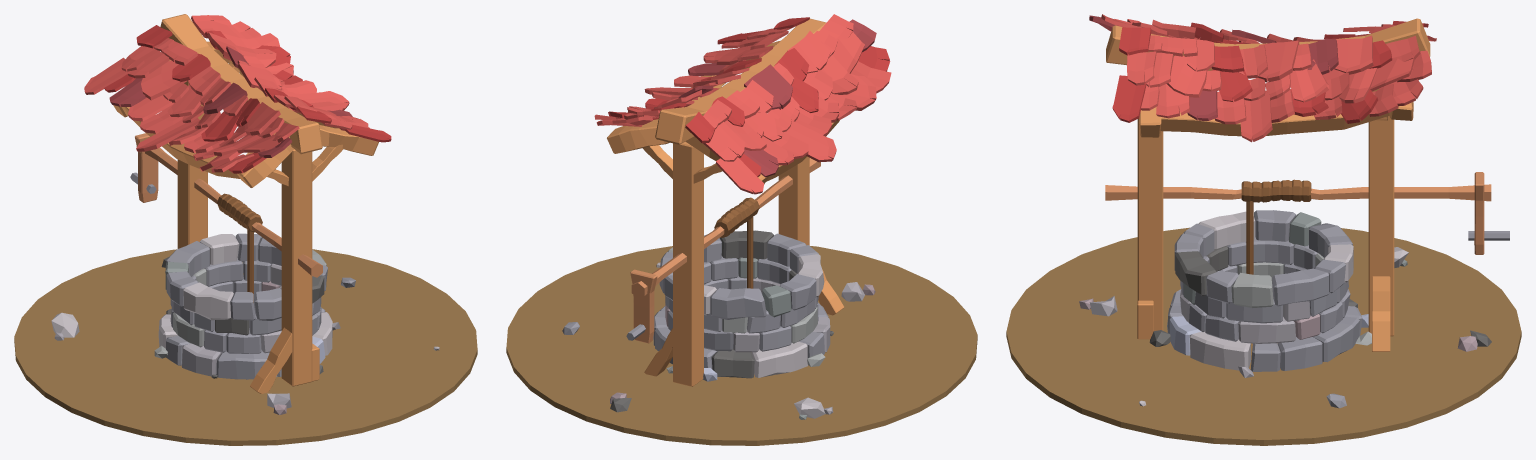
Rendered from LowPolyWell.fbx.
3 renders of one model, left to right at view 1: azimuth 30°, elevation 25°; view 2: azimuth 150°, elevation 25°; view 3: azimuth 270°, elevation 25°, orthographic. The views are drawn at different scales.
Visible parts, largest first — view 1: Cylinder.004, Plane.001, Plane.019, Cube.004, Cube.006, Cube.009, Cylinder, Cube.032, Cube.018, Cube.065, Cube.013, Cube.022 (+19 smaller); view 2: Cylinder.004, Plane.001, Cube.009, Plane.019, Cube.006, Cube.004, Cube.029, Cylinder, Cube.062, Cube.022, Cube.016, Cube.023 (+19 smaller); view 3: Cylinder.004, Plane.019, Cube.004, Cube.009, Cylinder, Plane.001, Cube.015, Cube.006, Cube.056, Cube.026, Cylinder.002, Cube.020 (+27 smaller).
Boxes of the visible parts, left/top/right/bottom form: Cylinder.004: left=14, top=249, right=477, bottom=445; Plane.001: left=84, top=25, right=299, bottom=173; Plane.019: left=191, top=15, right=391, bottom=142; Cube.004: left=281, top=149, right=312, bottom=386; Cube.006: left=160, top=14, right=322, bottom=154; Cube.009: left=177, top=80, right=207, bottom=248; Cylinder: left=145, top=147, right=322, bottom=277; Cube.032: left=183, top=282, right=233, bottom=320; Cube.018: left=250, top=327, right=292, bottom=393; Cube.065: left=216, top=350, right=277, bottom=379; Cube.013: left=319, top=125, right=378, bottom=155; Cube.022: left=135, top=133, right=158, bottom=202; Cylinder.004: left=506, top=246, right=977, bottom=445; Plane.001: left=685, top=14, right=891, bottom=194; Cube.009: left=673, top=141, right=703, bottom=386; Plane.019: left=594, top=17, right=809, bottom=126; Cube.006: left=655, top=18, right=826, bottom=144; Cube.004: left=778, top=156, right=809, bottom=245; Cube.029: left=710, top=288, right=766, bottom=319; Cylinder: left=631, top=158, right=820, bottom=298; Cube.062: left=752, top=341, right=807, bottom=377; Cube.022: left=630, top=269, right=657, bottom=343; Cube.016: left=607, top=119, right=669, bottom=153; Cube.023: left=719, top=230, right=773, bottom=259; Cylinder.004: left=1006, top=227, right=1521, bottom=445; Plane.019: left=1112, top=27, right=1431, bottom=142; Cube.004: left=1137, top=118, right=1163, bottom=330; Cube.009: left=1368, top=89, right=1394, bottom=336; Cylinder: left=1105, top=184, right=1491, bottom=201; Plane.001: left=1089, top=14, right=1436, bottom=44; Cube.015: left=1160, top=110, right=1389, bottom=136; Cube.006: left=1106, top=18, right=1430, bottom=70; Cube.056: left=1189, top=331, right=1250, bottom=370; Cube.026: left=1272, top=268, right=1329, bottom=306; Cylinder.002: left=1241, top=179, right=1311, bottom=202; Cube.020: left=1372, top=276, right=1390, bottom=351.
Size of the model in its own units: 4000 by 2671 by 4000.
